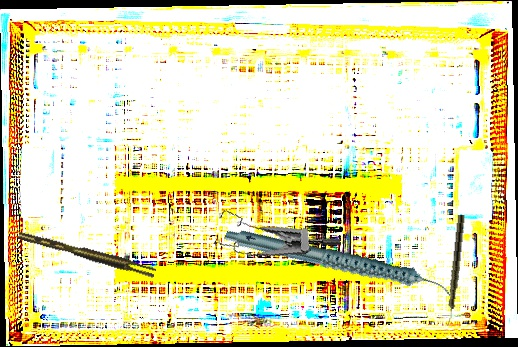Handpiece: (223, 183, 454, 344), (444, 214, 466, 327)
Speculum: (207, 185, 342, 275)
Tissue Forceps: (17, 225, 157, 282)
